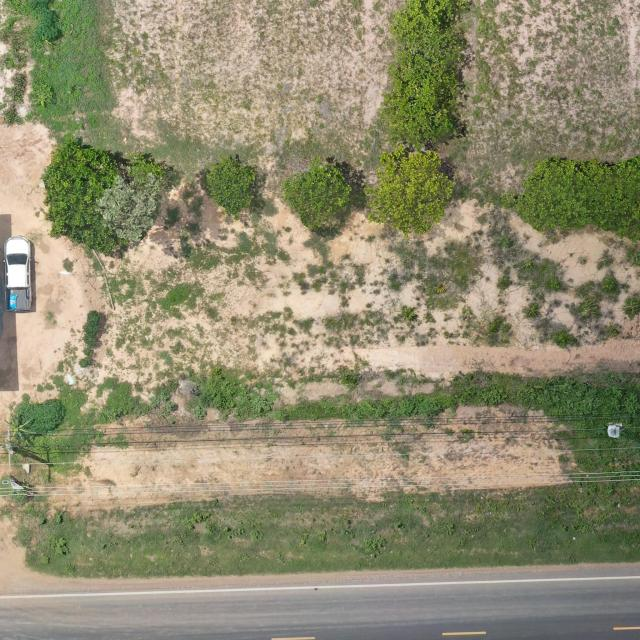Tree: (39, 135, 122, 257), (515, 155, 640, 233), (363, 144, 458, 236), (383, 55, 462, 142), (281, 155, 352, 234), (95, 171, 164, 246), (387, 0, 462, 46), (205, 153, 257, 218), (128, 152, 170, 185), (3, 414, 38, 440)
